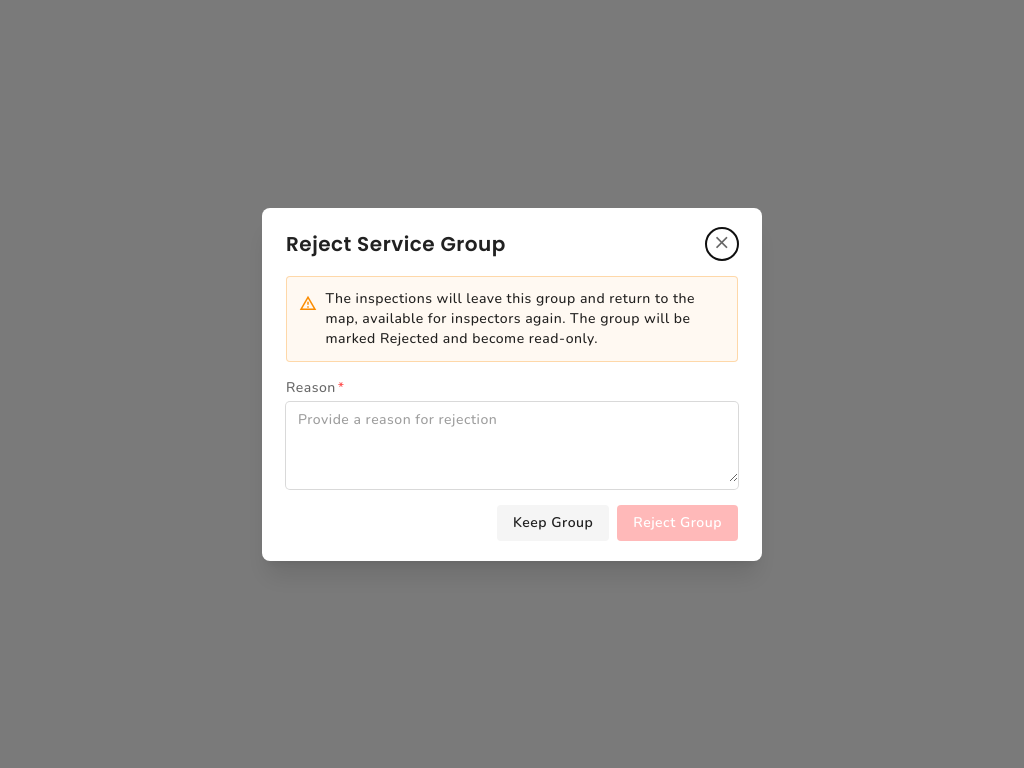
Test case: RejectGroupModal › enables Reject Group button when reason is provided
Type "Invalid address" into the text box named "Rejection reason". click: point(512, 442)
box: [286, 402, 738, 482]
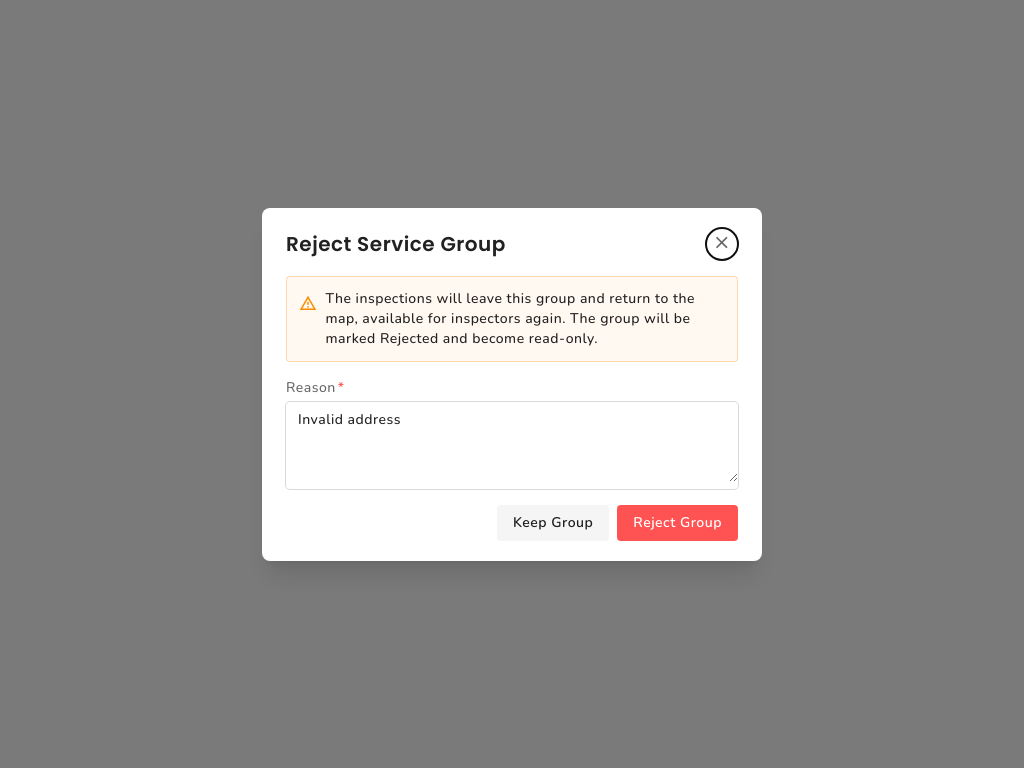
Expected: the button "Reject Group" is enabled, [617, 504, 738, 540]
